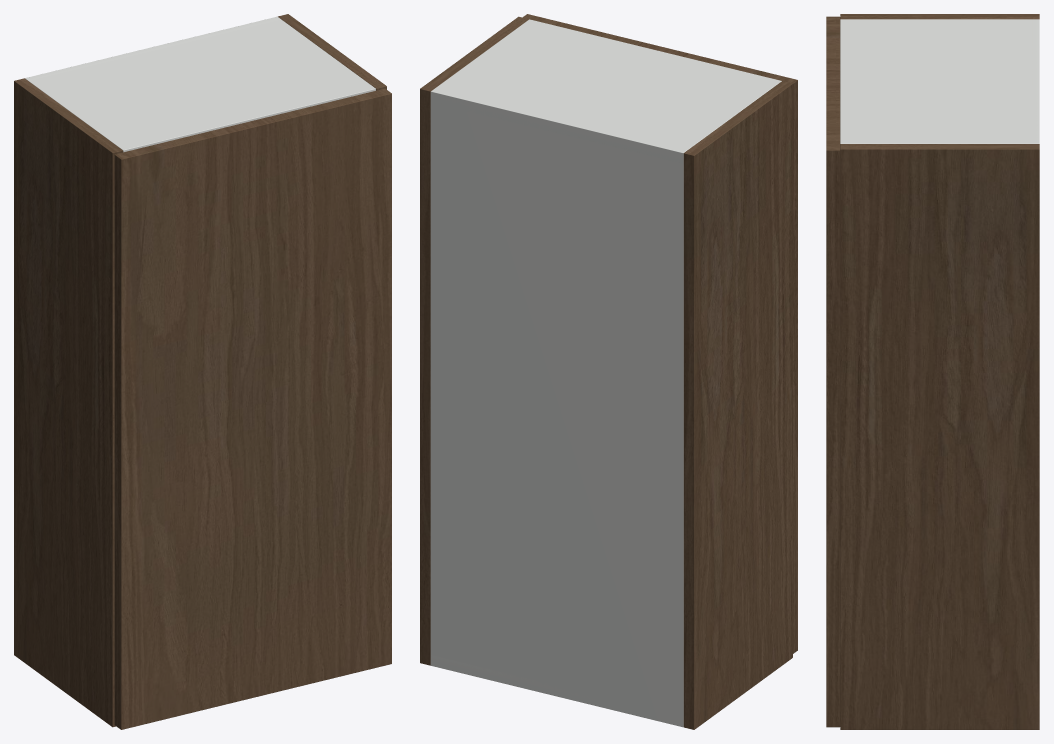
The model's file is oppein-pb-mso-w1836.glb.
3 views of the same model, side by side, from view 1: azimuth 30°, elevation 25°; view 2: azimuth 150°, elevation 25°; view 3: azimuth 270°, elevation 25° (orthographic).
Parts seen in each view (by area): view 1: Door, Cabinet side, Cabinet top, Cabinet side.001, Cabinet back; view 2: Cabinet back, Cabinet side, Cabinet top, Cabinet side.001, Door, Cabinet bottom; view 3: Cabinet side.001, Cabinet top, Door, Cabinet side, Cabinet back.
Boxes of the visible parts, <box> form: Door: <box>114,88,391,729</box>; Cabinet side: <box>14,78,123,727</box>; Cabinet top: <box>26,19,375,152</box>; Cabinet side.001: <box>278,14,386,90</box>; Cabinet back: <box>25,16,280,80</box>; Cabinet back: <box>430,88,686,727</box>; Cabinet side: <box>683,81,792,729</box>; Cabinet top: <box>430,19,781,163</box>; Cabinet side.001: <box>420,16,528,665</box>; Door: <box>522,14,797,653</box>; Cabinet bottom: <box>430,655,683,726</box>; Cabinet side.001: <box>840,144,1039,729</box>; Cabinet top: <box>840,19,1039,143</box>; Door: <box>826,16,840,727</box>; Cabinet side: <box>840,14,1039,19</box>; Cabinet back: <box>1031,19,1039,143</box>.
Size of the model in its own units: 0.4572 by 0.9144 by 0.3048.
2 materials, 1 textured.
